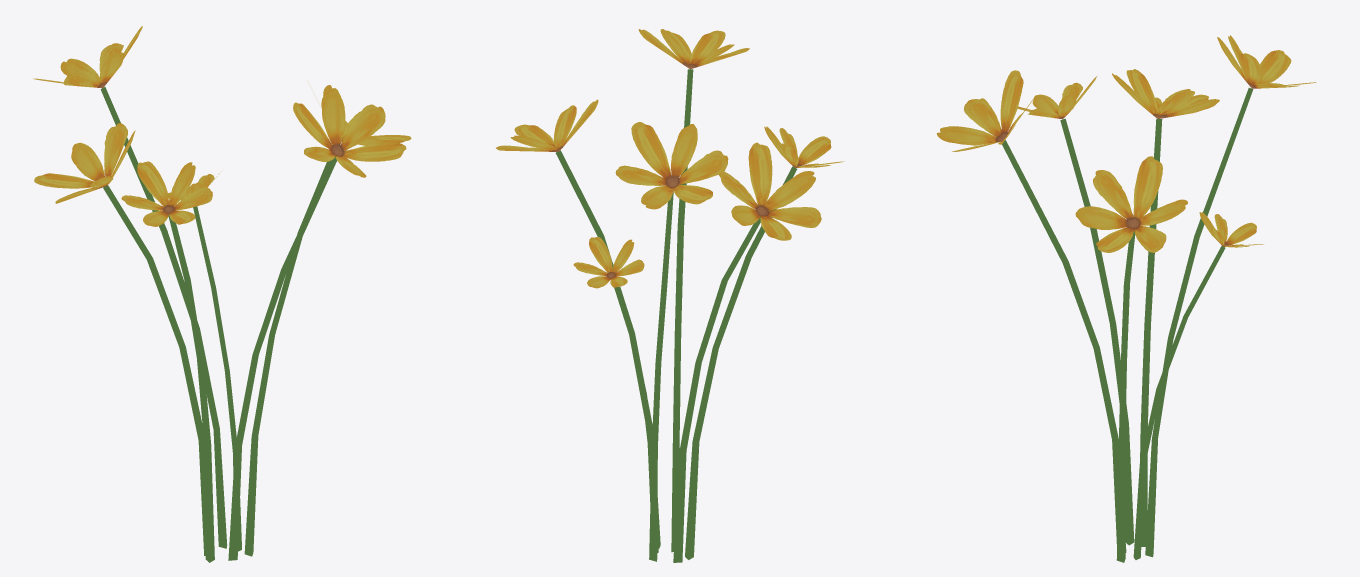
File: MEADOW_SM_Flower_04_02.gltf
3 renders of one model, left to right at view 1: azimuth 30°, elevation 25°; view 2: azimuth 150°, elevation 25°; view 3: azimuth 270°, elevation 25°, orthographic. The views are drawn at different scales.
Visible parts, largest first — view 1: SM_Flower_04_02_LOD0; view 2: SM_Flower_04_02_LOD0; view 3: SM_Flower_04_02_LOD0.
Part boxes in pixels (left/top/right/bottom): SM_Flower_04_02_LOD0: left=33, top=26, right=411, bottom=562; SM_Flower_04_02_LOD0: left=496, top=29, right=844, bottom=562; SM_Flower_04_02_LOD0: left=936, top=35, right=1316, bottom=562.
Size of the model in its own units: 0.5226 by 0.6475 by 0.5121.
1 material, 1 textured.
